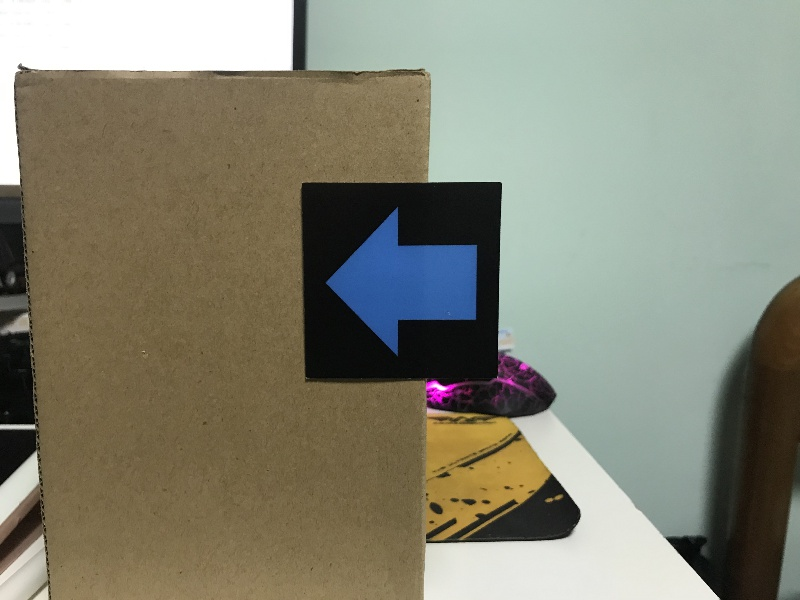LA-4: (304, 187, 497, 375)
